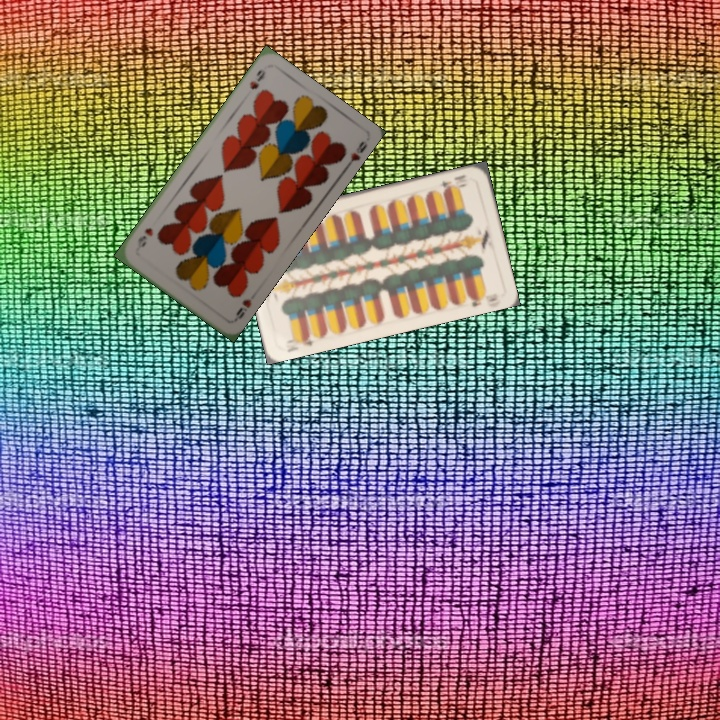E10: (283, 330, 317, 355), (434, 171, 469, 194)
H9: (230, 295, 254, 324), (245, 65, 268, 92)
